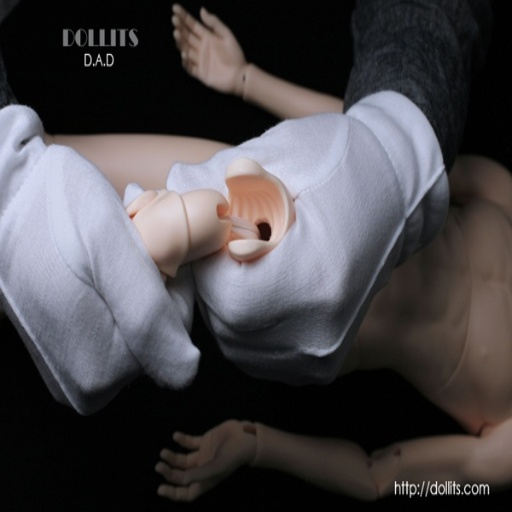hand: (163, 106, 410, 388), (0, 124, 200, 418), (156, 415, 254, 505), (171, 0, 246, 94)
